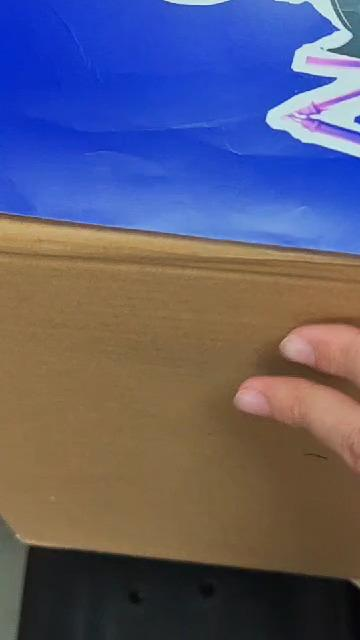B_R1: (138, 0, 360, 171)
